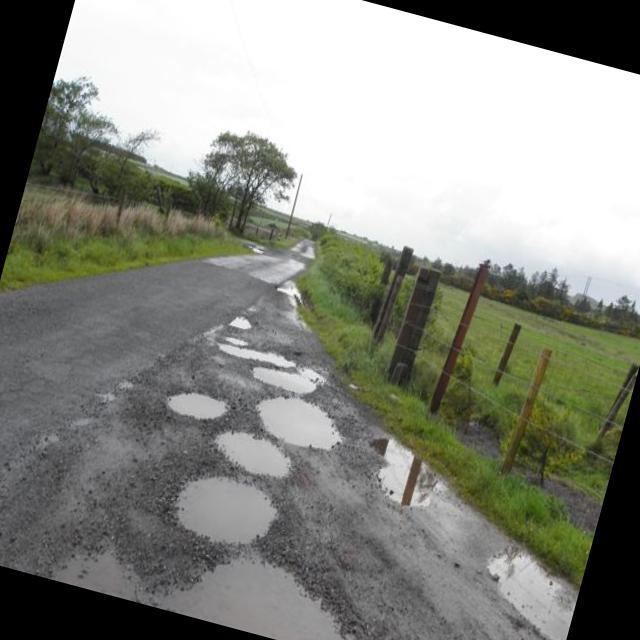Pothole: (185, 538, 389, 640), (159, 458, 299, 566), (348, 426, 456, 524), (240, 382, 348, 458), (206, 422, 300, 491), (249, 355, 325, 404), (163, 380, 231, 430), (214, 334, 284, 372), (229, 306, 256, 332), (275, 278, 296, 301)
